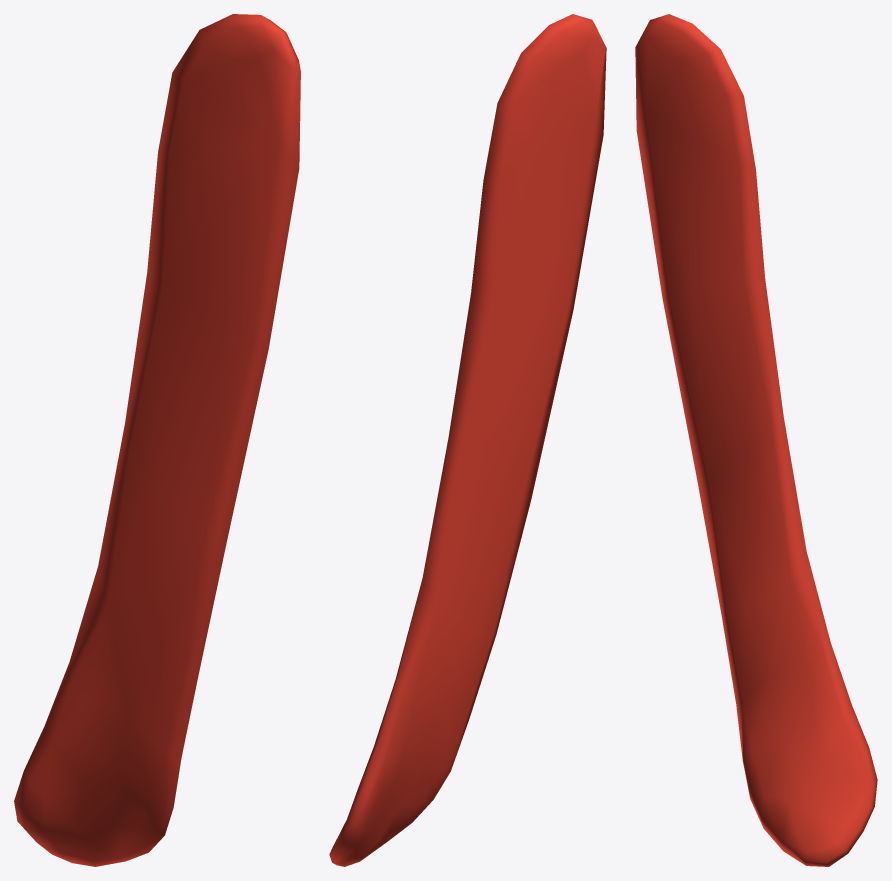
File: Orbicularis_oculi_orbital_part_maxilla_left.glb
3 renders of one model, left to right at view 1: azimuth 90°, elevation 25°; view 2: azimuth 150°, elevation 25°; view 3: azimuth 270°, elevation 25°, orthographic. The views are drawn at different scales.
Visible parts, largest first — view 1: Orbital_part_of_orbicularis_oculi_on_maxilla.l_Generated_Mes; view 2: Orbital_part_of_orbicularis_oculi_on_maxilla.l_Generated_Mes; view 3: Orbital_part_of_orbicularis_oculi_on_maxilla.l_Generated_Mes.
Part boxes in pixels (x1,y1,x2,y2): Orbital_part_of_orbicularis_oculi_on_maxilla.l_Generated_Mes: (14, 14, 300, 866); Orbital_part_of_orbicularis_oculi_on_maxilla.l_Generated_Mes: (329, 14, 606, 866); Orbital_part_of_orbicularis_oculi_on_maxilla.l_Generated_Mes: (635, 14, 877, 866).
Size of the model in its own units: 0.00428 by 0.0193 by 0.00541.
